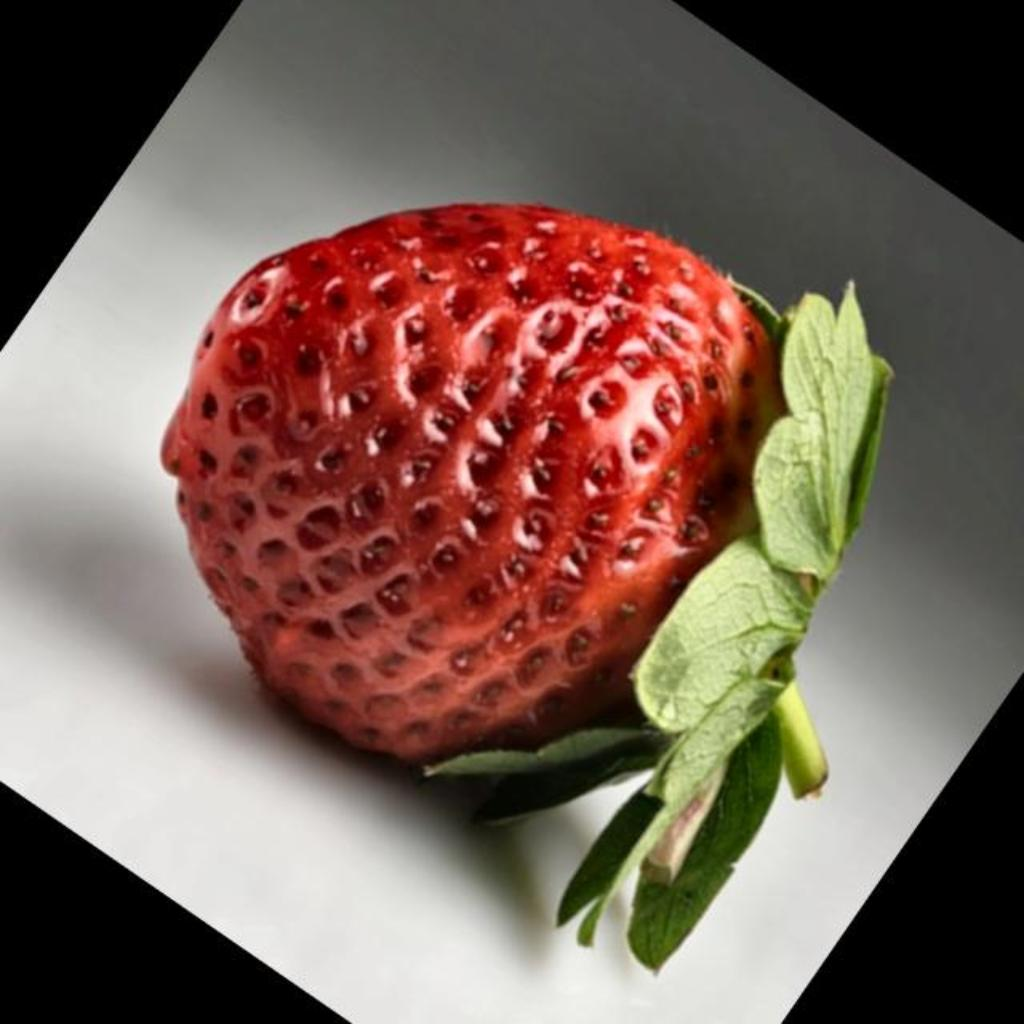strawberry: (162, 204, 890, 969)
